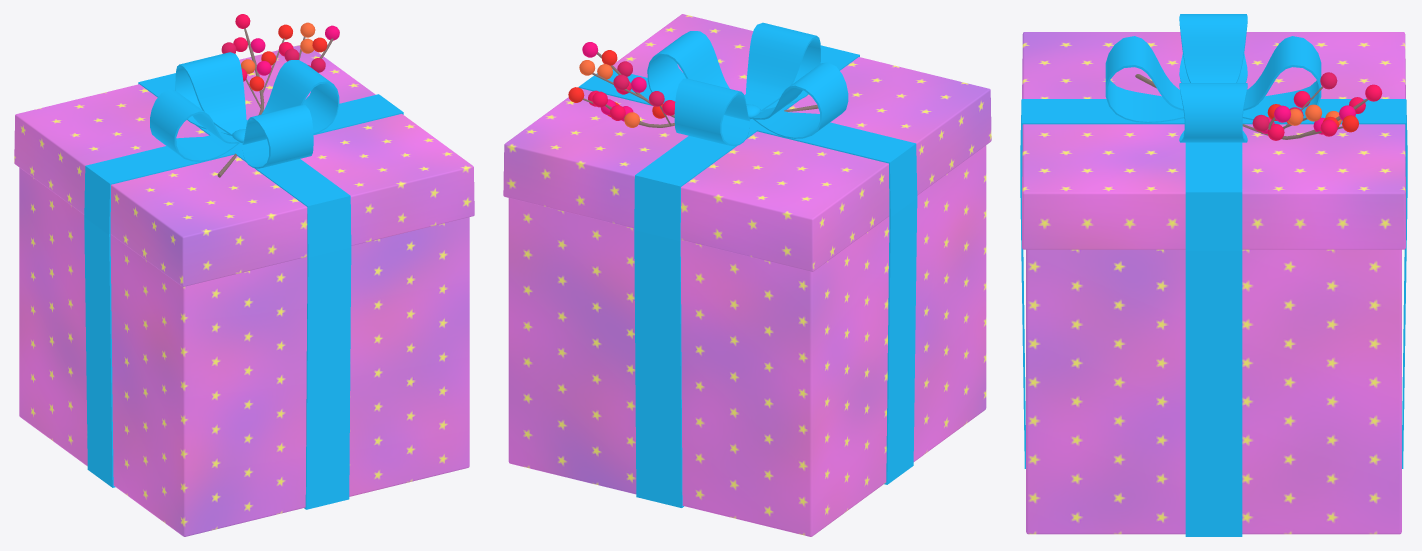
The model's file is gift_box(2).glb.
The picture shows the model from 3 angles, left to right: view 1: azimuth 30°, elevation 25°; view 2: azimuth 150°, elevation 25°; view 3: azimuth 270°, elevation 25°; orthographic projection. The views are drawn at different scales.
Parts seen in each view (by area): view 1: gift_gift_0; view 2: gift_gift_0; view 3: gift_gift_0.
Boxes of the visible parts, bbox=[...] form: gift_gift_0: bbox=[14, 14, 474, 536]; gift_gift_0: bbox=[503, 14, 991, 536]; gift_gift_0: bbox=[1020, 14, 1407, 536].
Bounding box in the file's own units: 0.2062 × 0.2443 × 0.2062.
1 material, 1 textured.
